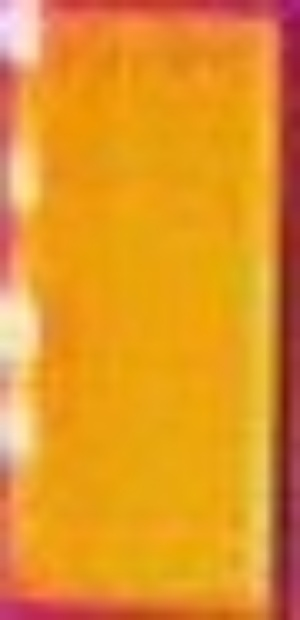Hotspot: (1, 1, 53, 464)
